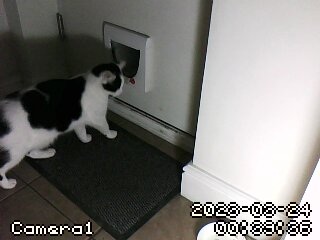bad: (1, 57, 130, 197)
